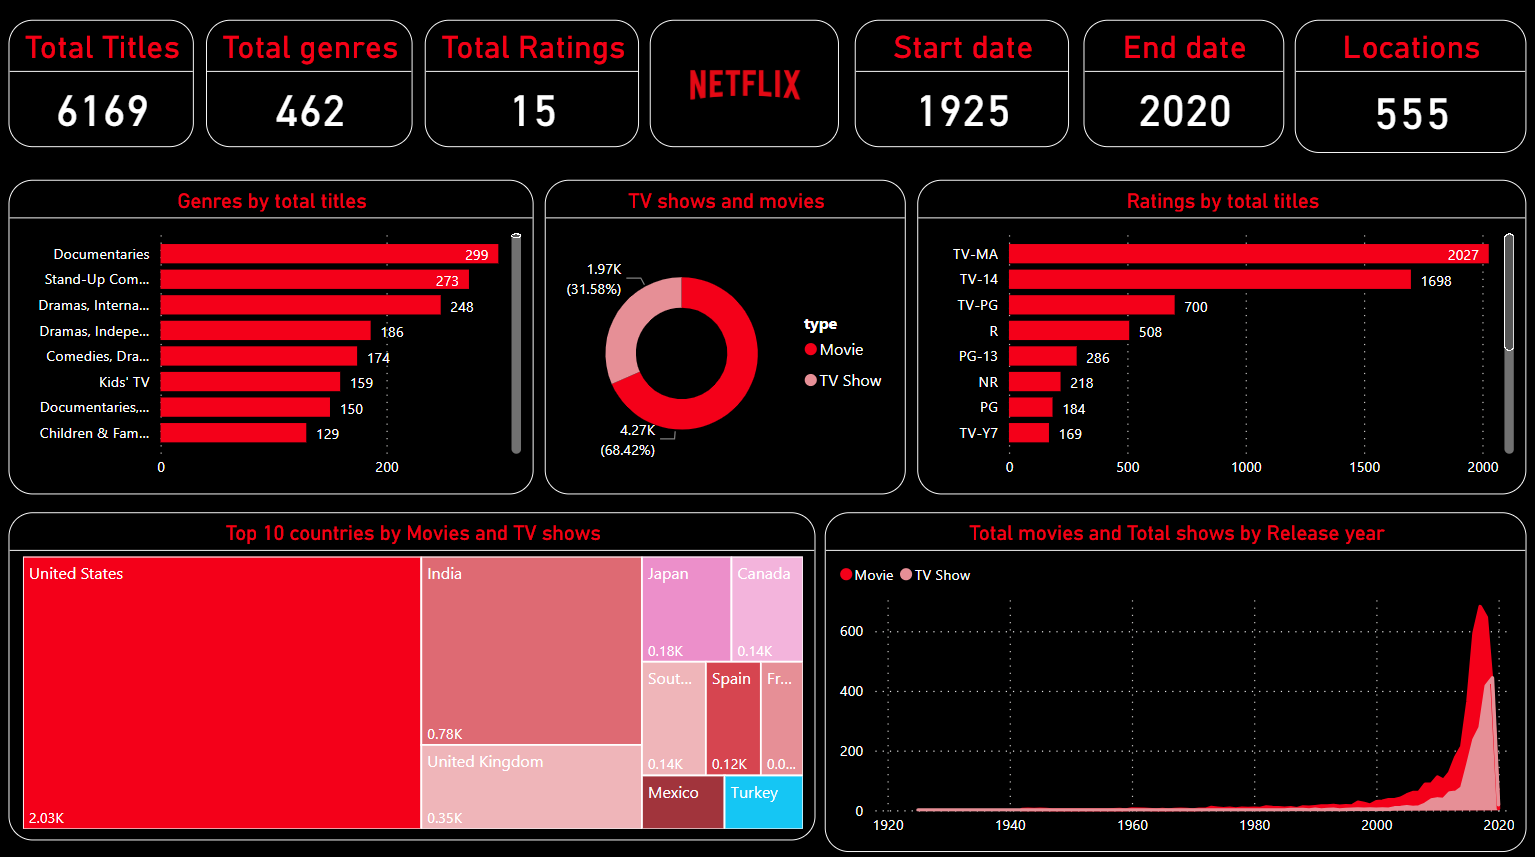

The page's visual inventory and layout, read from the dashboard file:
{"tool":"powerbi","page":{"name":"Page 1","canvas":[1280,720],"ordinal":0},"visuals":[{"type":"donutChart","title":"TV shows and movies","fields":{"Y":["Key Measures.No of shows"],"Category":["netflix_titles.type"]},"box":[454.7,152.3,298.8,260.5],"z":0},{"type":"barChart","title":"Ratings by total titles","fields":{"Category":["netflix_titles.rating"],"Y":["Key Measures.No of shows"]},"box":[764,152.3,504.7,260.5],"z":1000},{"type":"barChart","title":"Genres by total titles","fields":{"Y":["Key Measures.No of shows"],"Category":["netflix_titles.listed_in"]},"box":[10.5,152.3,434.9,260.5],"z":2000},{"type":"areaChart","title":"Total movies and Total shows by Release year","fields":{"Category":["netflix_titles.release_year"],"Series":["netflix_titles.type"],"Y":["Key Measures.No of shows"]},"box":[687.2,427.9,581.4,281.4],"z":3000},{"type":"treemap","title":"Top 10 countries by Movies and TV shows","fields":{"Values":["Key Measures.No of shows"],"Group":["netflix_titles.country"]},"box":[10.5,427.9,668.6,272.1],"z":4000},{"type":"image","box":[541.9,19.8,157,105.8],"z":5000},{"type":"card","title":"Locations","fields":{"Values":["Key Measures.Locations"]},"box":[1076.7,19.8,191.9,110.5],"z":6000},{"type":"card","title":"Total Ratings","fields":{"Values":["Key Measures.Total Ratings"]},"box":[355.8,19.8,177.9,110.5],"z":7000},{"type":"card","title":"Total Titles","fields":{"Values":["Key Measures.Total Titles"]},"box":[10.5,19.8,153.5,110.5],"z":8000},{"type":"card","title":"Total genres","fields":{"Values":["Key Measures.Total genres"]},"box":[174.4,19.8,170.9,110.5],"z":9000},{"type":"card","title":"Start date","fields":{"Values":["Key Measures.Start date"]},"box":[711.6,19.8,177.9,105.8],"z":10000},{"type":"card","title":"End date","fields":{"Values":["Key Measures.End date"]},"box":[901.2,19.8,166.3,105.8],"z":11000}]}

Visuals, with their boxes in screenshot pixels (x1, y1, x2, y2), scaled from the page's 1280x720 canvas onto the 1535x857 screenshot:
"TV shows and movies" donutChart: BBox(545, 181, 904, 491)
"Ratings by total titles" barChart: BBox(916, 181, 1521, 491)
"Genres by total titles" barChart: BBox(13, 181, 534, 491)
"Total movies and Total shows by Release year" areaChart: BBox(824, 509, 1521, 844)
"Top 10 countries by Movies and TV shows" treemap: BBox(13, 509, 814, 833)
image: BBox(650, 24, 838, 149)
"Locations" card: BBox(1291, 24, 1521, 155)
"Total Ratings" card: BBox(427, 24, 640, 155)
"Total Titles" card: BBox(13, 24, 197, 155)
"Total genres" card: BBox(209, 24, 414, 155)
"Start date" card: BBox(853, 24, 1067, 149)
"End date" card: BBox(1081, 24, 1280, 149)
